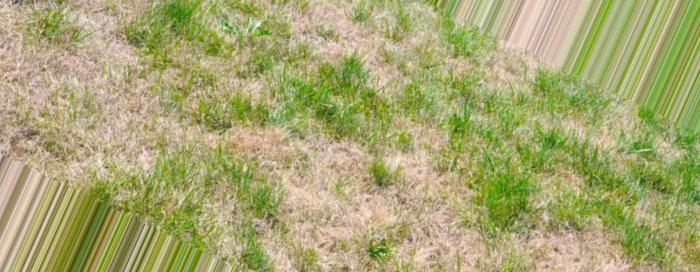patch: (294, 174, 374, 233), (541, 233, 607, 272), (97, 108, 155, 150), (93, 51, 140, 99), (411, 220, 464, 259), (37, 49, 78, 85)
